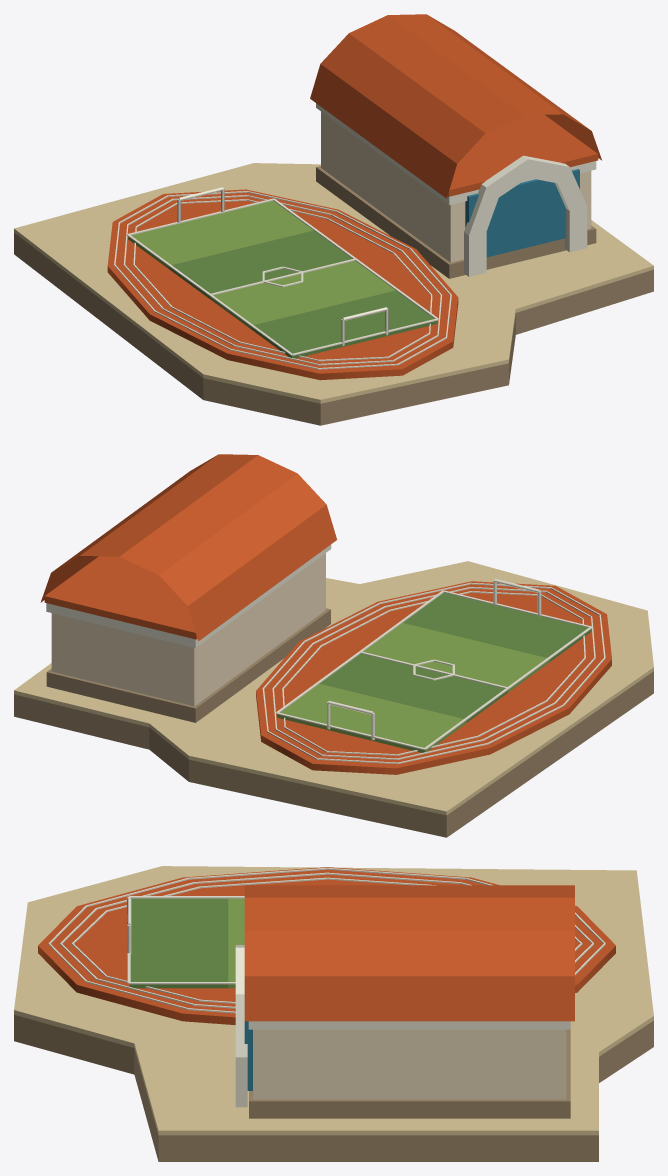
Rendered from training-center-lv1.glb.
The picture shows the model from 3 angles, top to bottom: view 1: azimuth 30°, elevation 25°; view 2: azimuth 150°, elevation 25°; view 3: azimuth 270°, elevation 25°; orthographic projection. The views are drawn at different scales.
Parts seen in each view (by area): view 1: foundation_sand, gym_barrel_roof_orange, running_track_orange, foundation_stoneDark, pitch_grassLight, pitch_grass, training_hall_cream, training_hall_roof_orange, gym_front_arch_white, running_lanes_white, gym_front_glass, training_hall_stoneDark (+3 smaller); view 2: foundation_sand, gym_barrel_roof_orange, running_track_orange, training_hall_cream, foundation_stoneDark, pitch_grass, pitch_grassLight, training_hall_roof_orange, running_lanes_white, training_hall_stoneDark, pitch_lines_white, training_hall_white (+1 smaller); view 3: gym_barrel_roof_orange, foundation_sand, training_hall_cream, foundation_stoneDark, running_track_orange, pitch_grass, training_hall_stoneDark, running_lanes_white, training_hall_white, gym_front_arch_white, pitch_grassLight, pitch_lines_white (+1 smaller).
Part boxes in pixels (<box>): foundation_sand: <box>14,163,653,403</box>; gym_barrel_roof_orange: <box>310,14,601,198</box>; running_track_orange: <box>107,189,458,380</box>; foundation_stoneDark: <box>14,232,653,425</box>; pitch_grassLight: <box>128,200,395,328</box>; pitch_grass: <box>169,230,437,358</box>; training_hall_cream: <box>321,111,591,262</box>; training_hall_roof_orange: <box>447,114,598,196</box>; gym_front_arch_white: <box>464,155,587,276</box>; running_lanes_white: <box>114,191,451,369</box>; gym_front_glass: <box>465,169,579,257</box>; training_hall_stoneDark: <box>316,166,596,278</box>; foundation_sand: <box>14,561,653,815</box>; gym_barrel_roof_orange: <box>40,454,336,641</box>; running_track_orange: <box>256,581,611,774</box>; training_hall_cream: <box>51,553,325,706</box>; foundation_stoneDark: <box>14,671,653,837</box>; pitch_grass: <box>319,592,591,722</box>; pitch_grassLight: <box>277,623,549,752</box>; training_hall_roof_orange: <box>44,556,197,639</box>; running_lanes_white: <box>262,582,605,764</box>; training_hall_stoneDark: <box>46,608,330,722</box>; pitch_lines_white: <box>276,590,592,749</box>; training_hall_white: <box>46,544,331,647</box>; gym_barrel_roof_orange: <box>244,885,574,1021</box>; foundation_sand: <box>14,866,653,1135</box>; training_hall_cream: <box>253,1029,566,1099</box>; foundation_stoneDark: <box>14,1015,653,1161</box>; running_track_orange: <box>38,867,615,1024</box>; pitch_grass: <box>129,898,228,988</box>; training_hall_stoneDark: <box>249,1029,570,1118</box>; running_lanes_white: <box>48,867,605,1013</box>; training_hall_white: <box>248,1021,570,1029</box>; gym_front_arch_white: <box>235,945,247,1107</box>; pitch_grassLight: <box>228,898,244,988</box>; pitch_lines_white: <box>127,896,244,984</box>.
Size of the model in its own units: 0.9785 by 0.3602 by 1.
